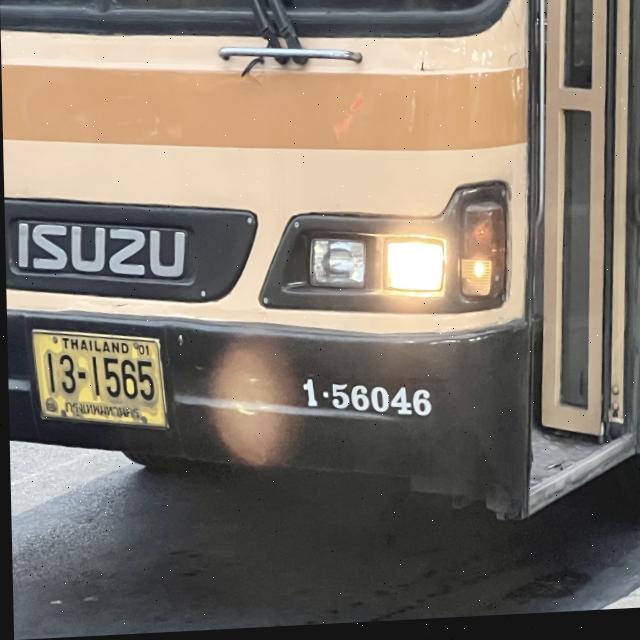BMTA-bus: (0, 0, 640, 555)
Bus Side Number: (283, 368, 443, 431)
